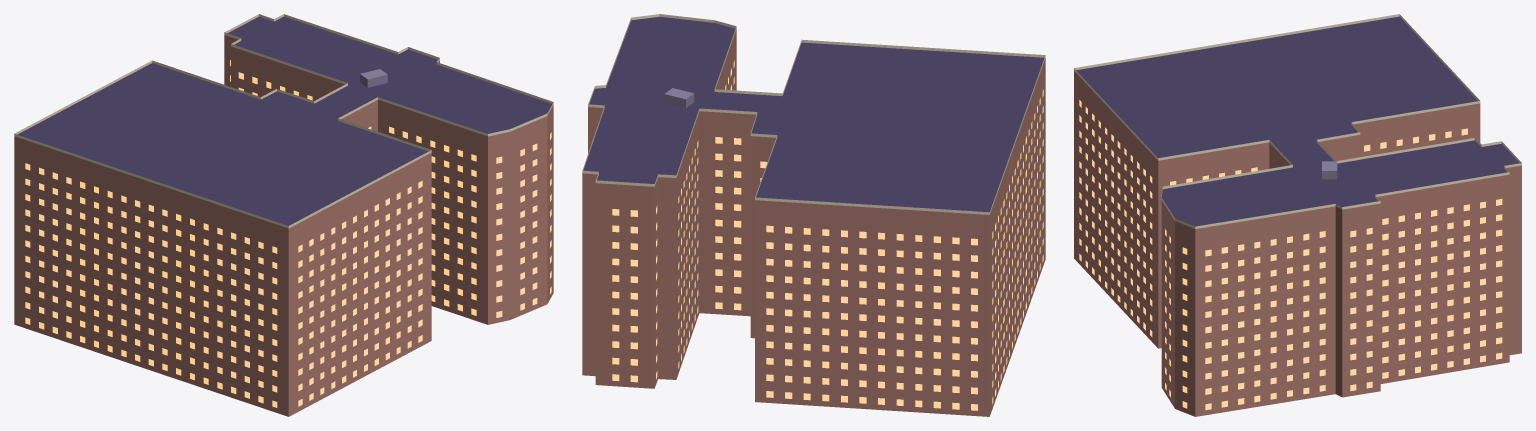
Rendered from b-016-saugeen-maitland-hall.glb.
The picture shows the model from 3 angles, left to right: view 1: azimuth 30°, elevation 25°; view 2: azimuth 150°, elevation 25°; view 3: azimuth 270°, elevation 25°; orthographic projection. The views are drawn at different scales.
Visible parts, largest first — view 1: campus/b-016-saugeen-maitland-hall-0; view 2: campus/b-016-saugeen-maitland-hall-0; view 3: campus/b-016-saugeen-maitland-hall-0.
Boxes of the visible parts, x1=… form: campus/b-016-saugeen-maitland-hall-0: x1=14, y1=14, x2=553, y2=416; campus/b-016-saugeen-maitland-hall-0: x1=582, y1=14, x2=1045, y2=416; campus/b-016-saugeen-maitland-hall-0: x1=1074, y1=14, x2=1521, y2=416.
Bounding box in the file's own units: 97.82 × 42.1 × 87.11.
